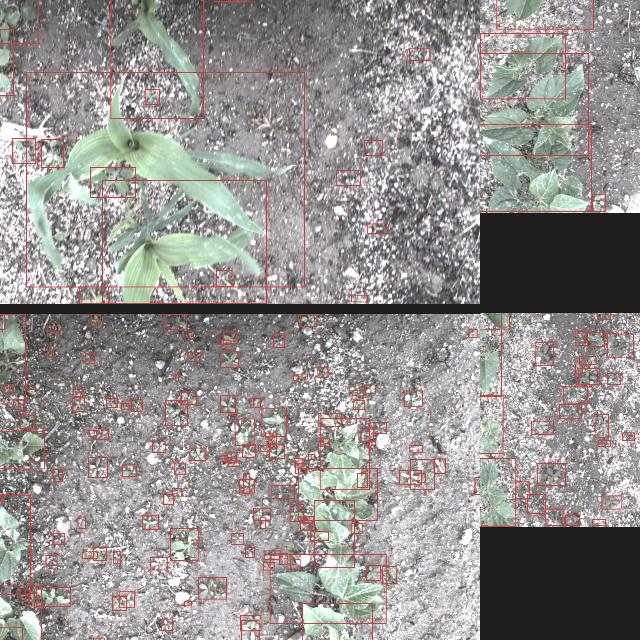crop: (26, 72, 304, 288), (102, 180, 266, 304), (480, 53, 587, 155), (110, 0, 202, 118), (480, 124, 590, 211), (269, 554, 385, 624), (480, 33, 565, 99), (298, 468, 377, 520), (319, 418, 369, 489), (0, 495, 30, 595), (314, 500, 354, 568), (301, 603, 371, 640), (480, 457, 515, 526), (0, 585, 41, 640), (0, 314, 24, 404), (480, 313, 501, 396), (0, 431, 43, 469), (480, 396, 502, 454)
weed: (0, 0, 38, 42), (90, 167, 134, 197), (170, 528, 198, 560), (0, 29, 13, 95), (260, 408, 286, 436), (410, 459, 434, 489), (40, 138, 62, 168), (536, 464, 566, 486), (606, 334, 634, 356), (36, 588, 70, 606), (12, 138, 34, 164), (165, 400, 187, 426), (198, 578, 226, 598), (234, 418, 253, 446), (78, 287, 108, 303), (562, 386, 588, 404), (535, 342, 553, 366), (336, 170, 360, 186), (241, 620, 259, 640), (88, 457, 106, 477), (527, 494, 545, 514), (558, 404, 580, 420), (270, 484, 294, 498), (594, 414, 608, 438), (545, 508, 563, 526), (240, 615, 260, 631), (578, 368, 598, 384), (318, 412, 340, 426), (399, 470, 421, 484), (363, 140, 381, 156), (404, 390, 422, 406), (219, 351, 237, 367), (530, 422, 554, 434), (166, 314, 186, 328), (601, 496, 621, 509), (215, 271, 231, 287), (142, 514, 158, 530), (118, 592, 134, 608), (382, 566, 396, 584), (289, 504, 303, 522), (586, 332, 604, 346), (409, 48, 429, 60), (268, 444, 284, 458), (238, 479, 254, 493), (220, 396, 234, 412), (515, 482, 529, 498), (592, 194, 604, 212), (252, 509, 270, 521), (188, 448, 206, 460), (367, 224, 388, 234), (144, 90, 158, 104), (366, 566, 380, 580), (112, 597, 126, 611), (92, 547, 106, 561), (20, 414, 34, 428), (300, 314, 316, 326), (150, 558, 166, 570), (180, 392, 196, 404), (310, 531, 328, 541), (272, 333, 284, 347), (121, 465, 135, 477), (71, 397, 83, 411), (565, 514, 579, 526), (434, 458, 444, 474), (263, 550, 279, 560), (357, 472, 367, 488), (372, 422, 386, 433), (360, 429, 372, 441), (242, 444, 254, 456), (160, 619, 172, 631), (130, 399, 142, 411), (223, 332, 237, 342), (94, 429, 108, 439), (606, 374, 620, 384), (294, 462, 306, 473), (173, 463, 184, 475), (152, 441, 164, 452), (576, 330, 584, 346), (579, 356, 595, 364), (350, 523, 362, 533), (243, 473, 249, 493), (12, 399, 24, 409), (52, 534, 64, 544), (19, 590, 29, 602), (52, 469, 62, 481), (408, 444, 422, 452), (105, 398, 116, 408), (351, 389, 363, 398), (188, 352, 200, 361), (474, 477, 480, 494), (317, 367, 327, 377), (354, 400, 364, 410), (365, 384, 375, 394), (289, 560, 299, 570), (225, 452, 235, 462), (232, 534, 242, 544), (163, 494, 173, 504), (90, 314, 100, 324), (46, 555, 56, 565), (351, 296, 367, 302), (262, 562, 274, 570), (112, 551, 120, 563), (46, 325, 58, 333), (622, 433, 634, 441), (250, 398, 260, 407), (244, 547, 253, 557), (85, 353, 94, 363), (82, 552, 96, 558), (28, 594, 34, 608), (591, 520, 605, 526), (299, 522, 309, 530), (268, 437, 276, 447), (294, 458, 302, 468), (279, 554, 287, 564), (171, 488, 181, 496), (72, 388, 82, 396), (320, 438, 330, 446), (574, 364, 582, 374), (596, 313, 609, 319), (417, 473, 425, 482), (258, 445, 270, 451), (78, 517, 84, 529), (597, 440, 609, 446), (228, 459, 238, 466), (304, 516, 312, 524), (468, 329, 476, 337), (220, 454, 228, 462), (120, 402, 128, 410), (4, 384, 12, 392), (47, 346, 53, 356), (0, 313, 4, 328), (217, 340, 230, 344), (368, 440, 374, 448), (264, 433, 272, 439), (88, 430, 95, 436), (297, 374, 307, 378), (260, 518, 264, 528), (292, 374, 298, 380), (92, 637, 103, 640), (188, 331, 192, 339), (183, 602, 190, 606), (307, 454, 313, 458), (175, 374, 178, 381), (29, 385, 33, 389), (230, 414, 236, 416), (28, 459, 32, 461)
